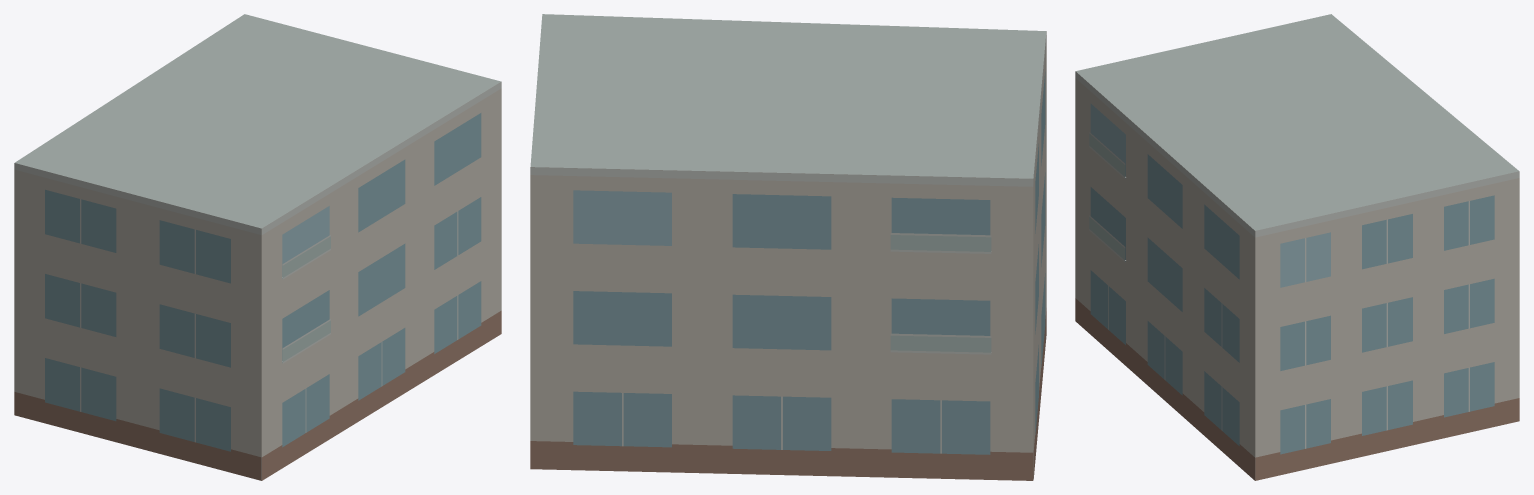
The model's file is survey-upis-33017481.glb.
The picture shows the model from 3 angles, left to right: view 1: azimuth 30°, elevation 25°; view 2: azimuth 150°, elevation 25°; view 3: azimuth 270°, elevation 25°; orthographic projection. The views are drawn at different scales.
Visible parts, largest first — view 1: survey-upis-33017481.tmp; view 2: survey-upis-33017481.tmp; view 3: survey-upis-33017481.tmp.
Part boxes in pixels (<box>): survey-upis-33017481.tmp: <box>14,14,501,480</box>; survey-upis-33017481.tmp: <box>530,14,1046,480</box>; survey-upis-33017481.tmp: <box>1075,14,1519,480</box>.
Bounding box in the file's own units: 17.04 × 9.15 × 14.74.
